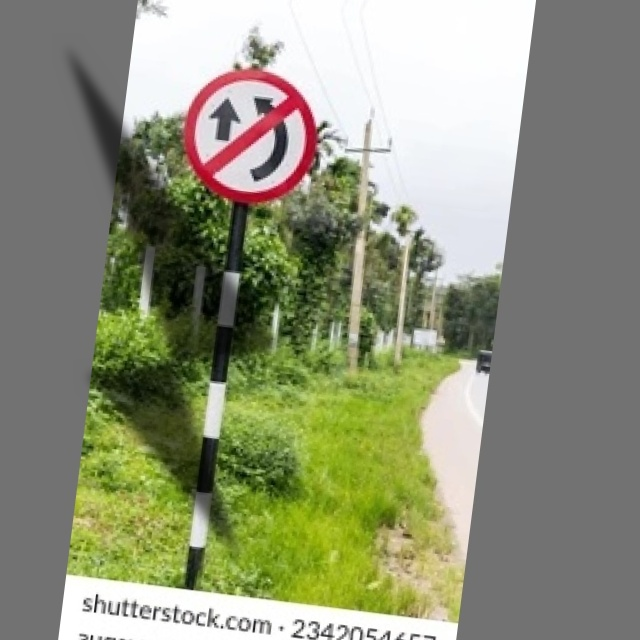Overtaking_Prohibited: (181, 61, 324, 210)
